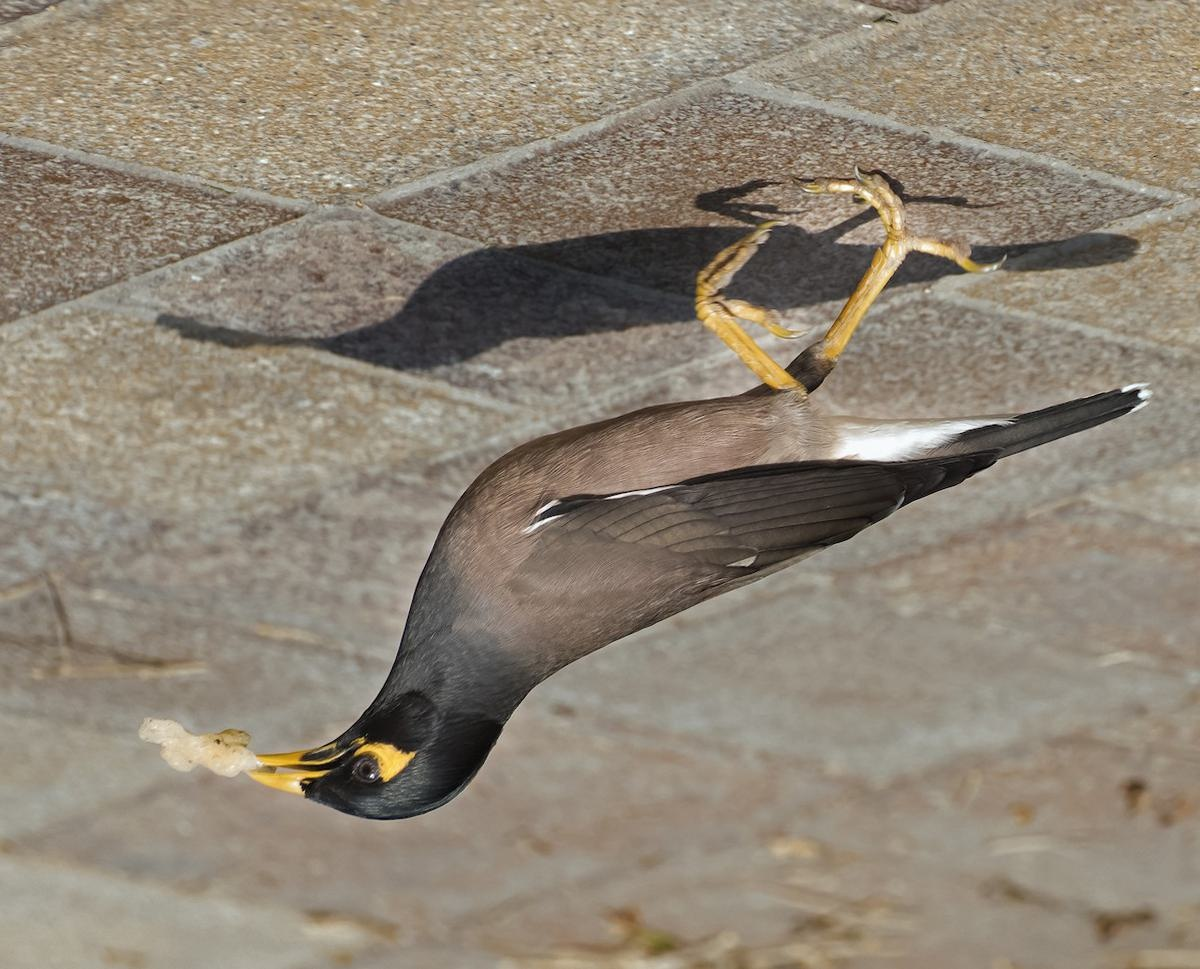myna: (209, 202, 1150, 868)
